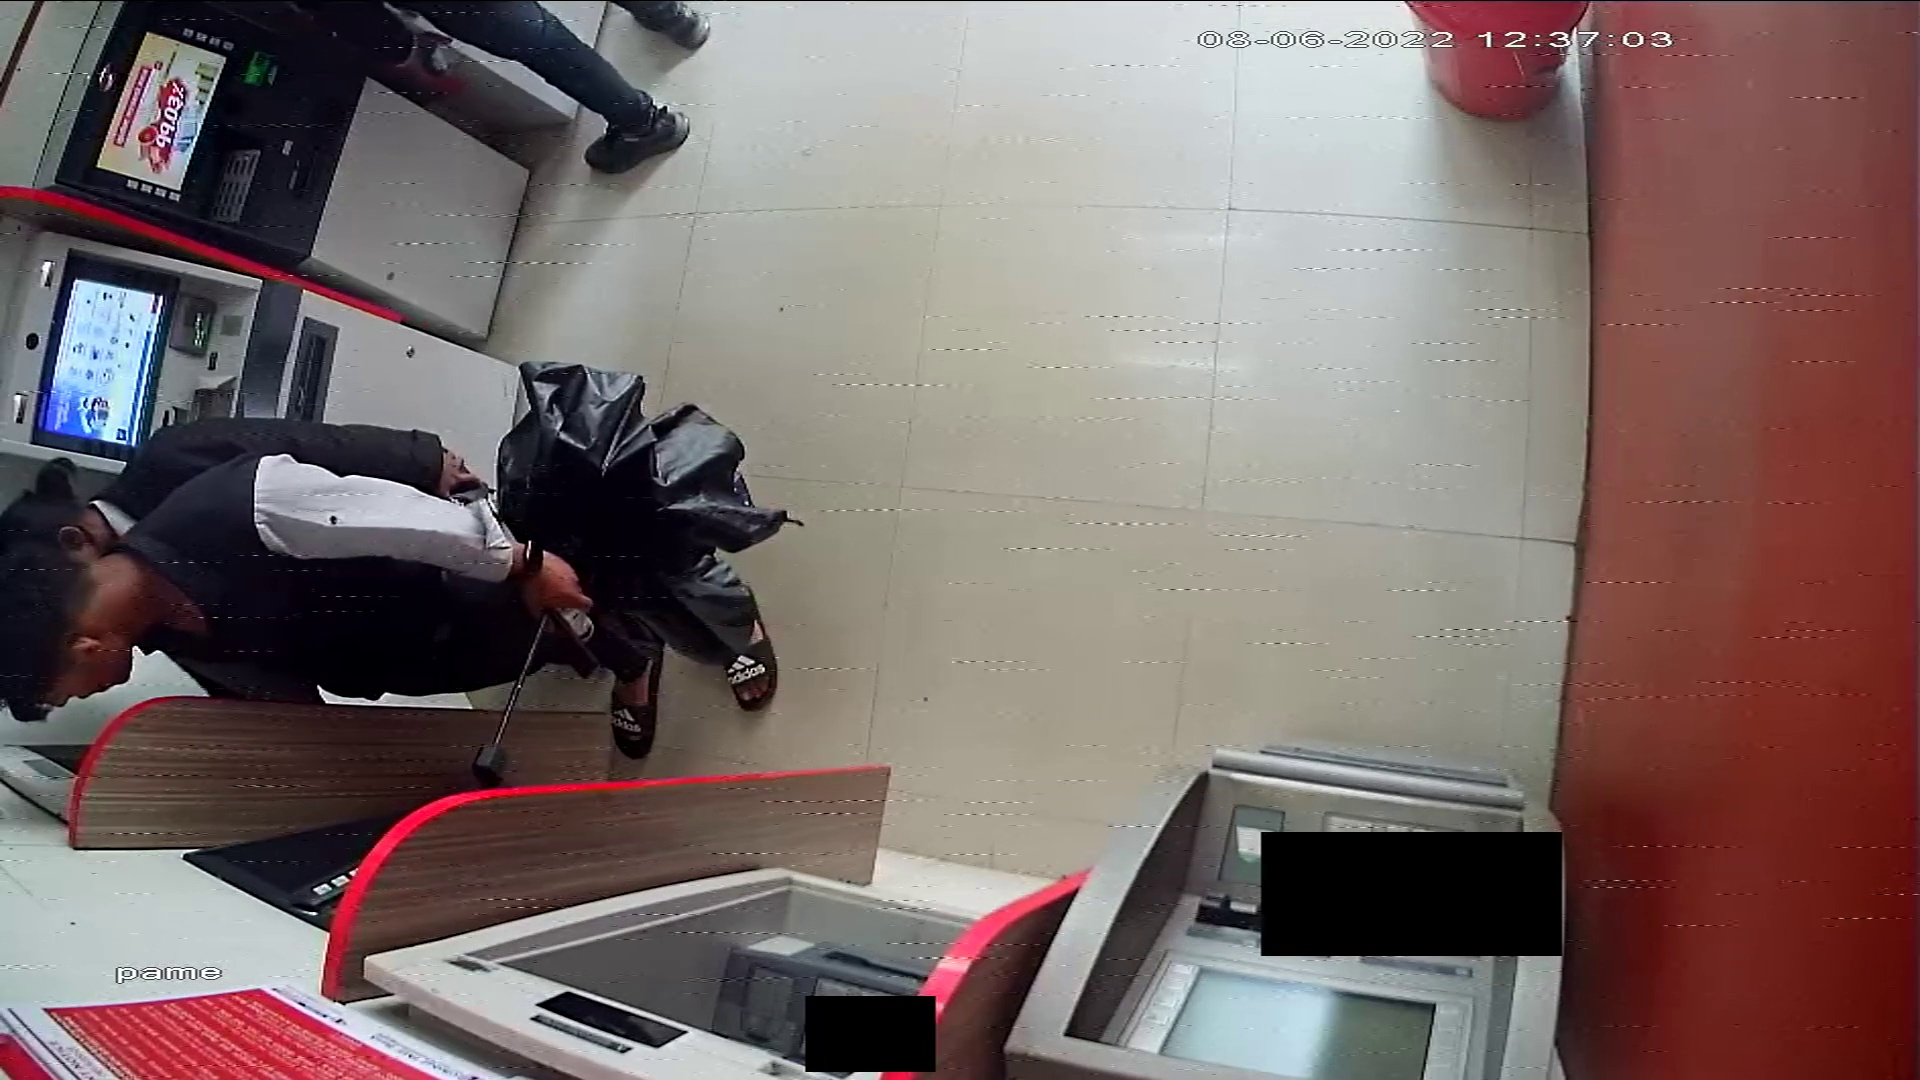person: (1, 448, 789, 756), (428, 1, 721, 175)
